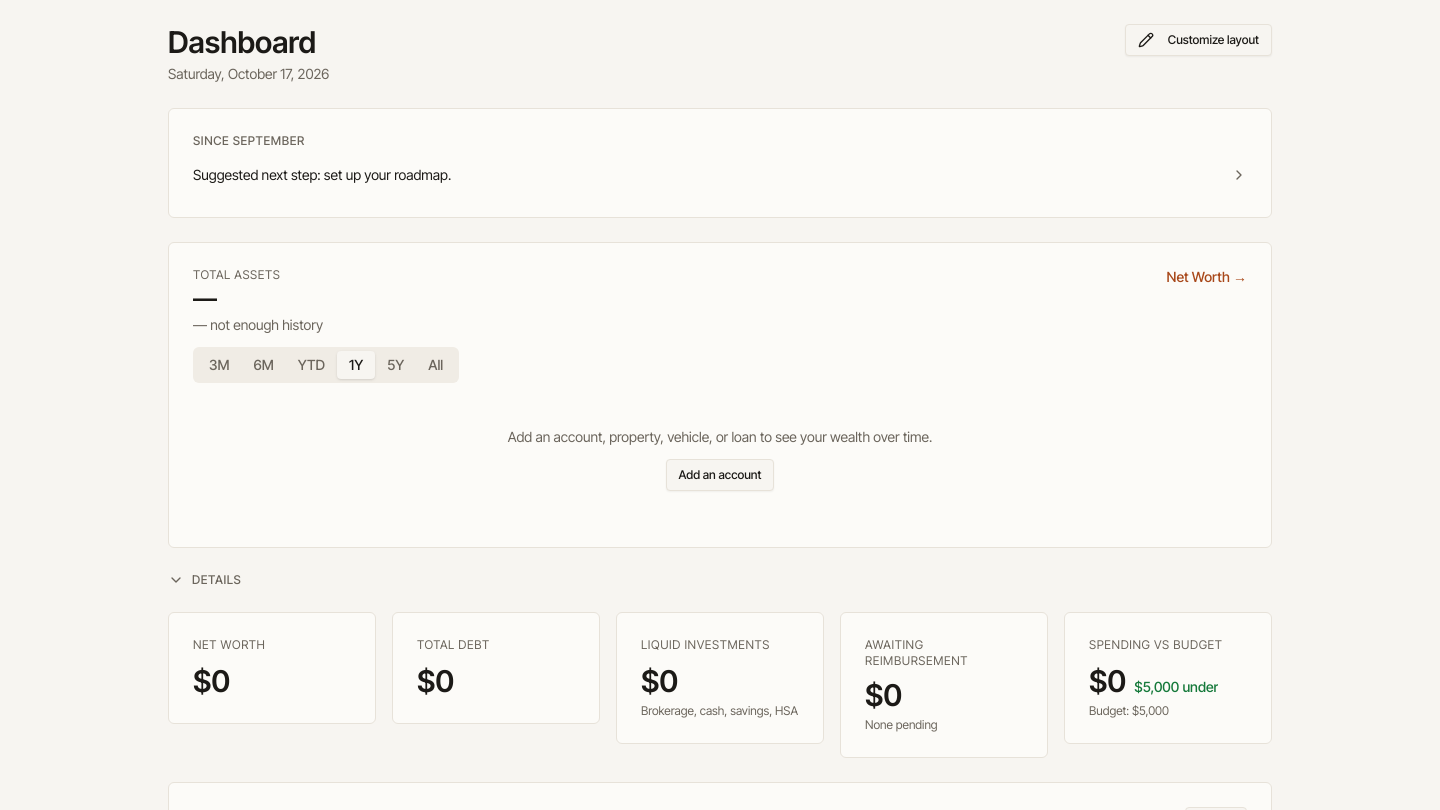
Scenario: Dashboard widget reposition › hides a widget and surfaces it under the Hidden widgets tray
Click the button with test id "dashboard-edit-toggle" at x=1198, y=40, box [1125,24,1272,56]
(page scrolled)
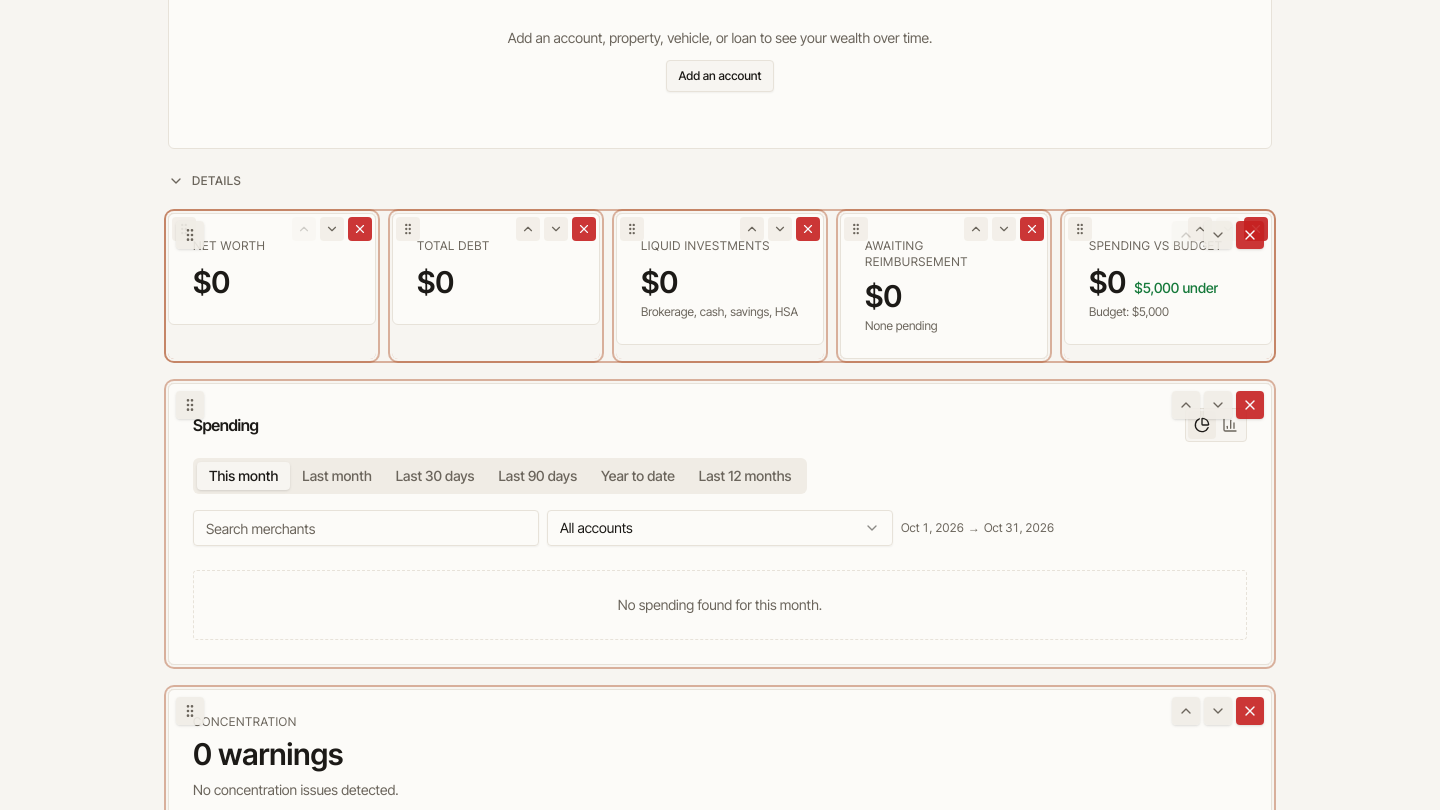
Expected: the element with test id "widget-spending" is shown, [168,383,1272,665]
Click the button with test id "widget-spending-remove" at x=1250, y=405, box [1236,391,1264,419]
(page scrolled)
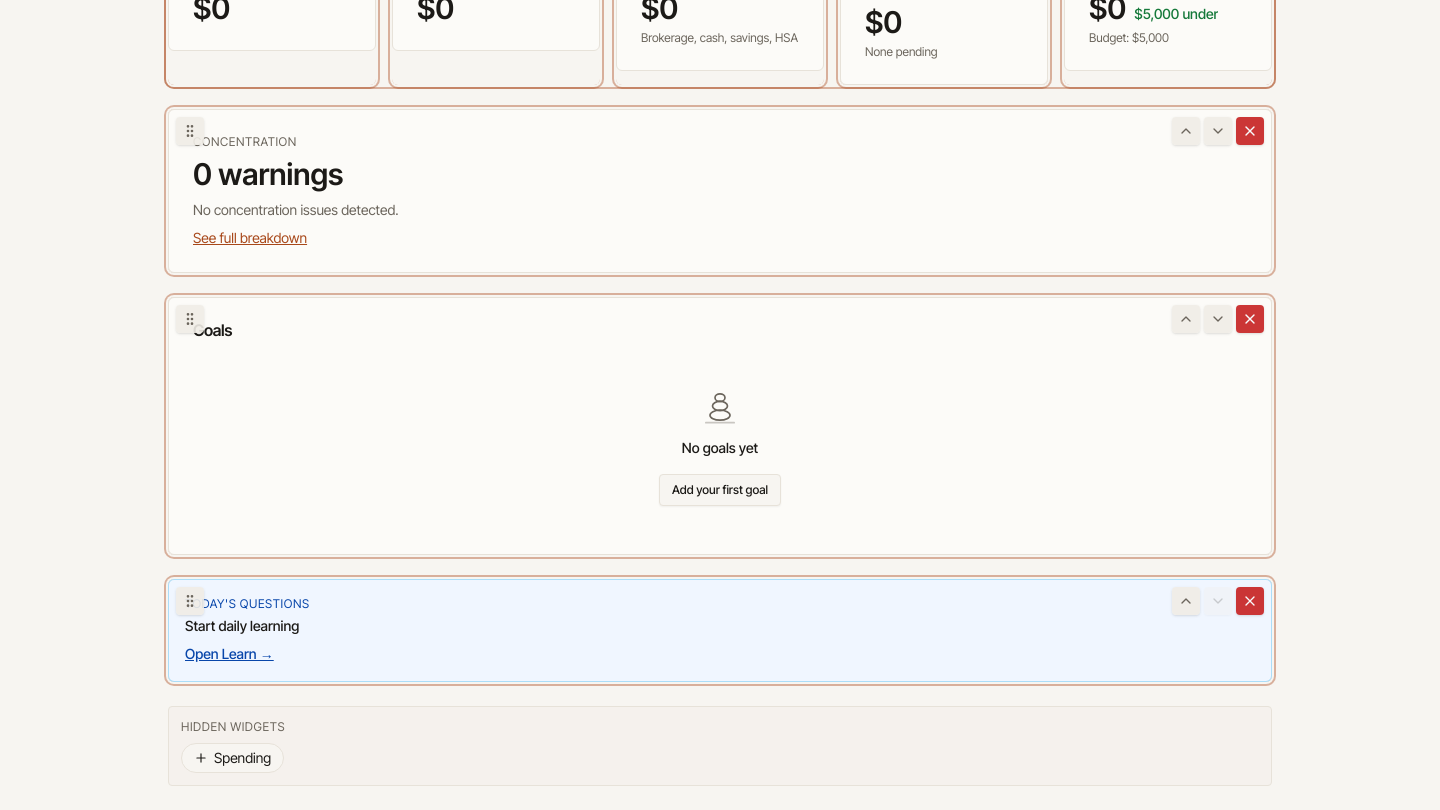
Expected: the button with test id "widget-add-spending" is shown, [181,743,284,773]
Now the element with test id "widget-spending" is gone
